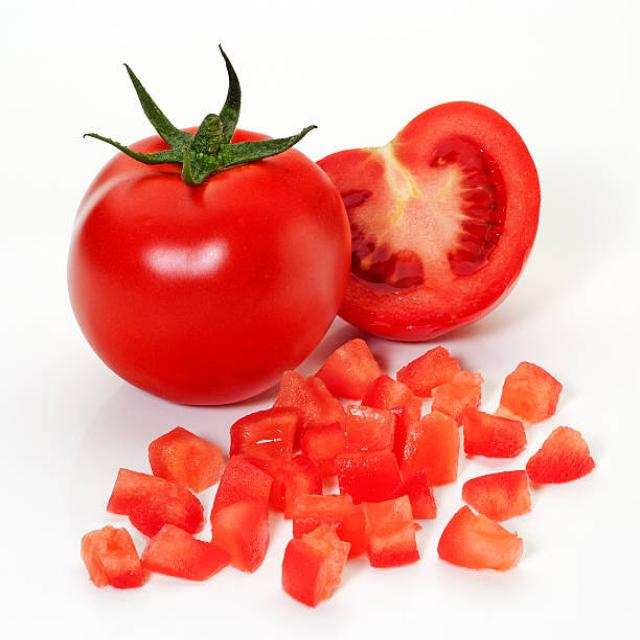Tomato: (318, 102, 554, 355)
